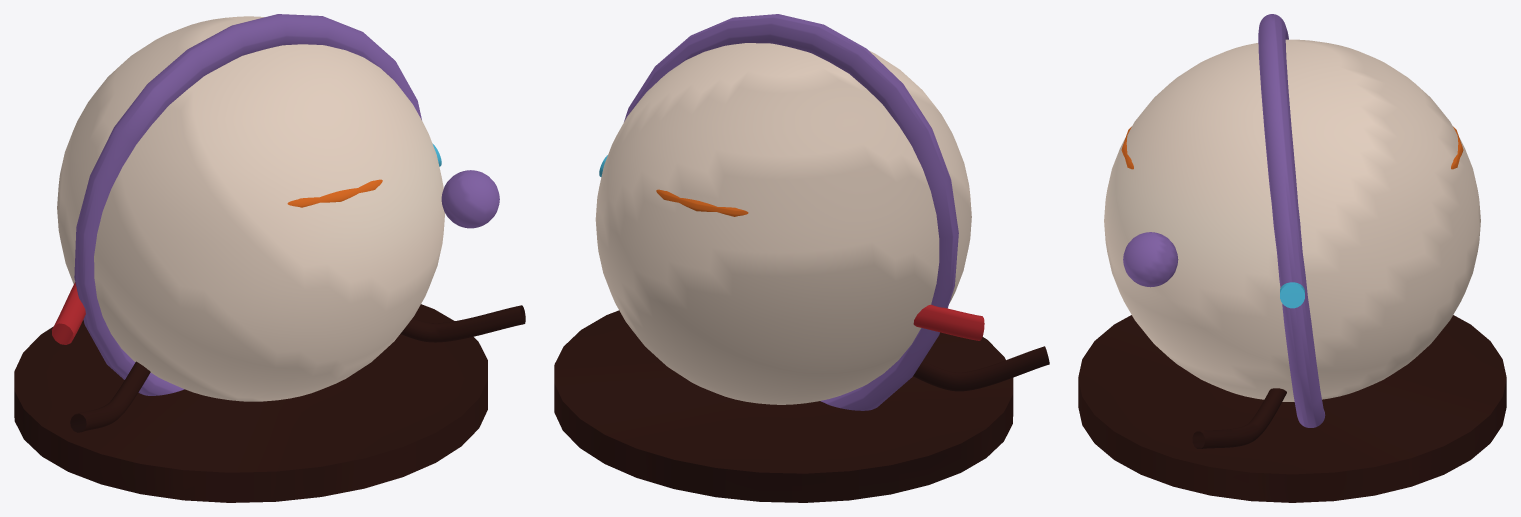
File: 0418_微生物图鉴_线粒体.glb
3 renders of one model, left to right at view 1: azimuth 30°, elevation 25°; view 2: azimuth 150°, elevation 25°; view 3: azimuth 270°, elevation 25°, orthographic. The views are drawn at different scales.
Parts seen in each view (by area): view 1: card_0418; view 2: card_0418; view 3: card_0418.
Boxes of the visible parts, x1,y1,x2,y2 form: card_0418: (14,14,525,502); card_0418: (554,14,1049,502); card_0418: (1078,14,1506,502).
Bounding box in the file's own units: 1.18 × 1 × 1.02.
